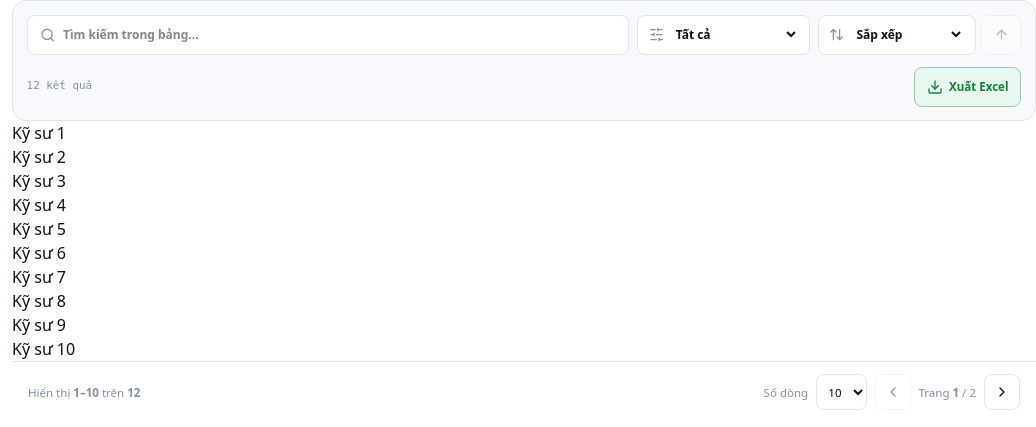
it: AdminTableTools › sorts before pagination and toggles the selected direction
Select "Tên" in the dropdown named "Sắp xếp theo" at (908, 35), box [852,25,964,44]
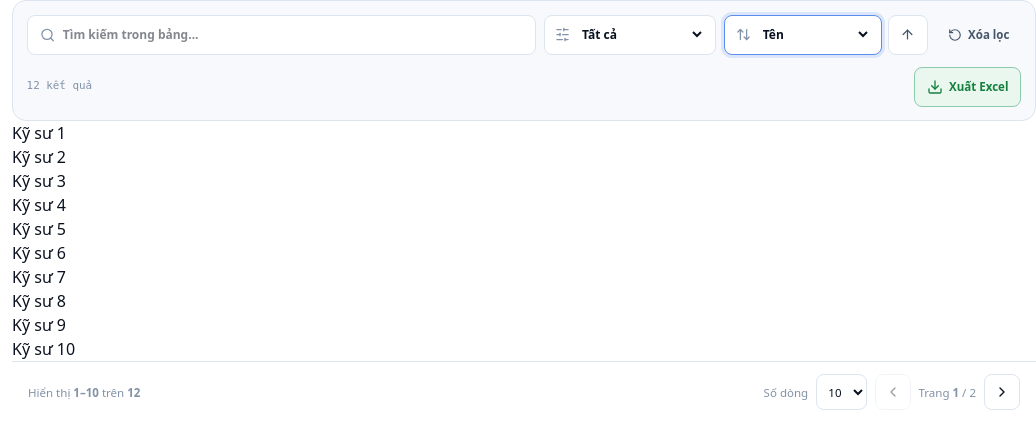
Expected: the list item "Kỹ sư 1" is shown, [12,122,66,144]
Click the button named "Đổi sang sắp xếp giảm dần".
click(908, 35)  # box [888,15,928,55]
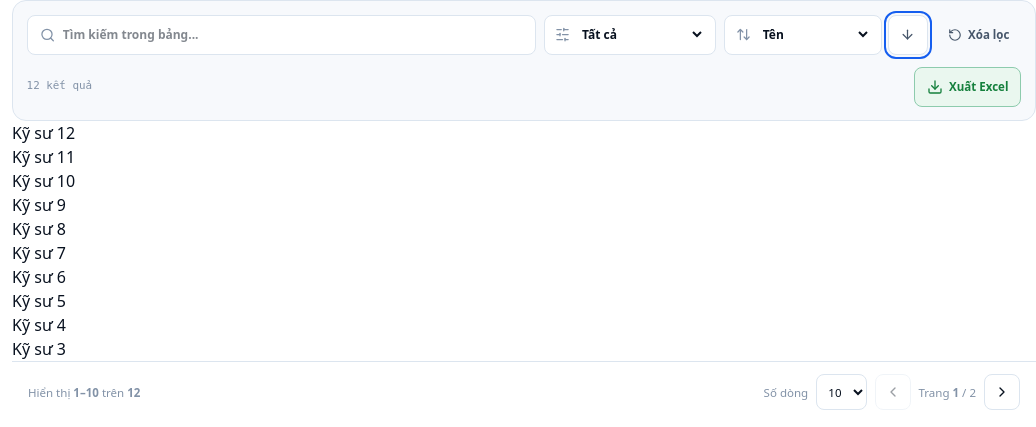
Expected: the list item "Kỹ sư 12" is shown, [12,122,75,144]
